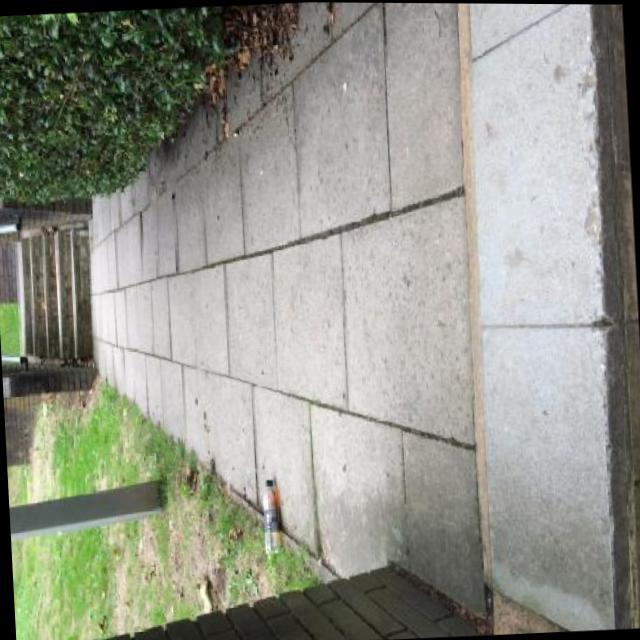plastic: (262, 478, 284, 556)
